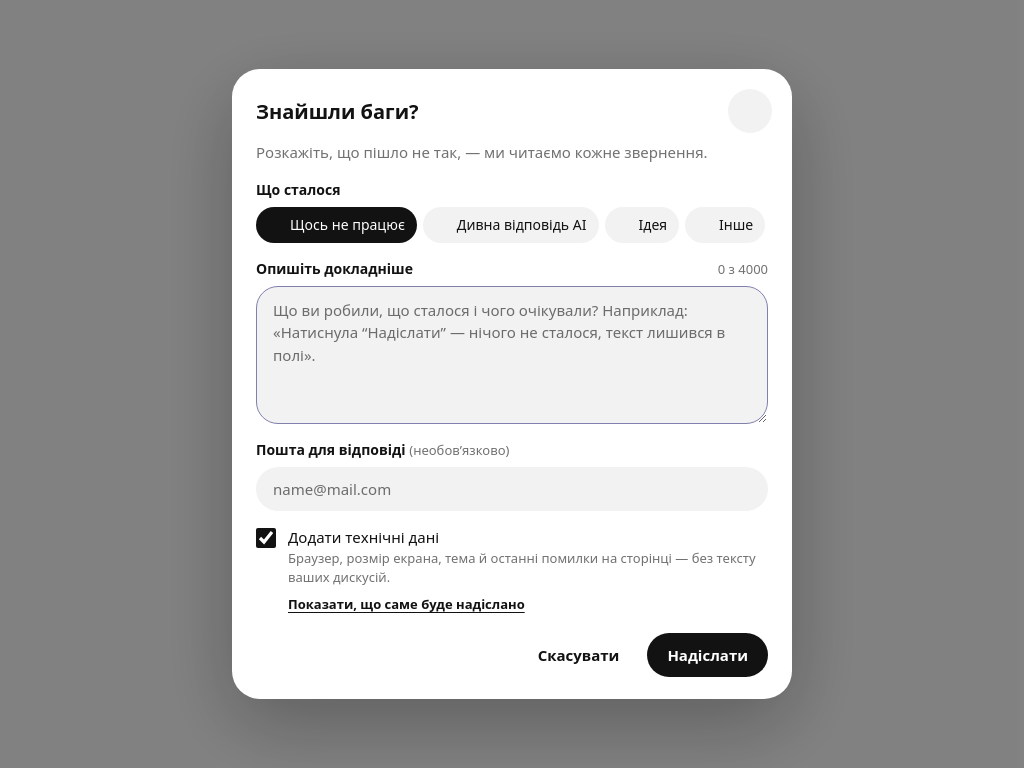
Scenario: «Знайшли баги?» › не надсилає надто короткий опис і пояснює чому
The width and height of the screenshot is (1024, 768).
Type "баг" into the text box labelled "Опишіть докладніше" at (512, 355), box [256,286,768,424]
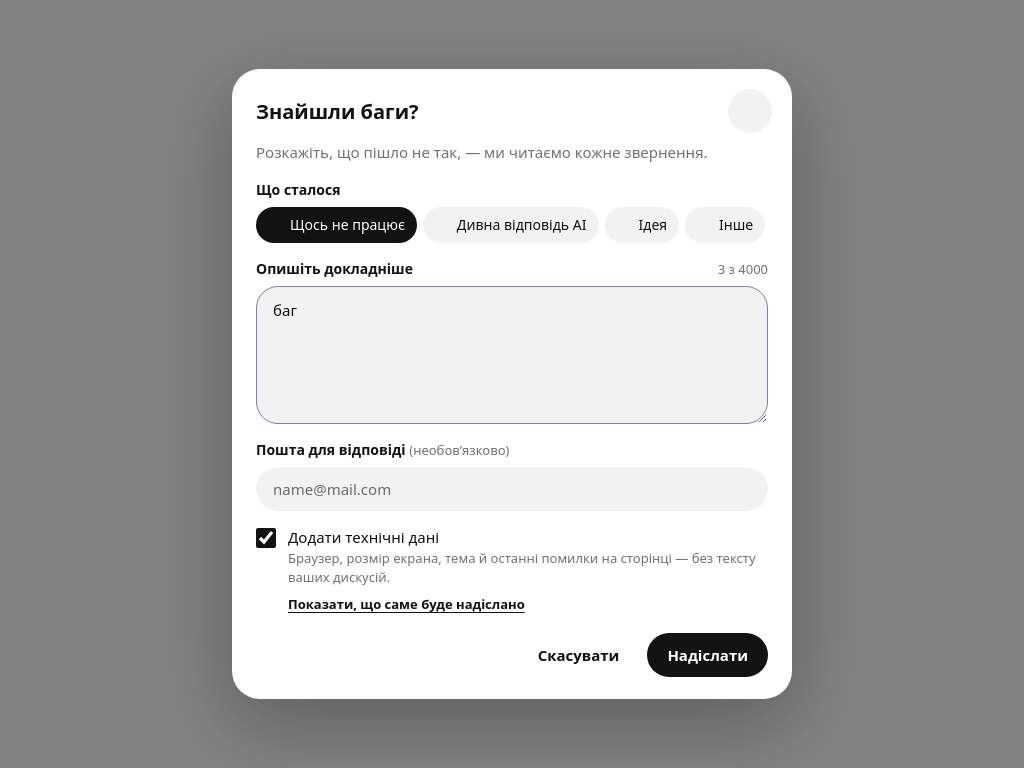
Click the button "Надіслати" at (708, 655), box [647,633,768,677]
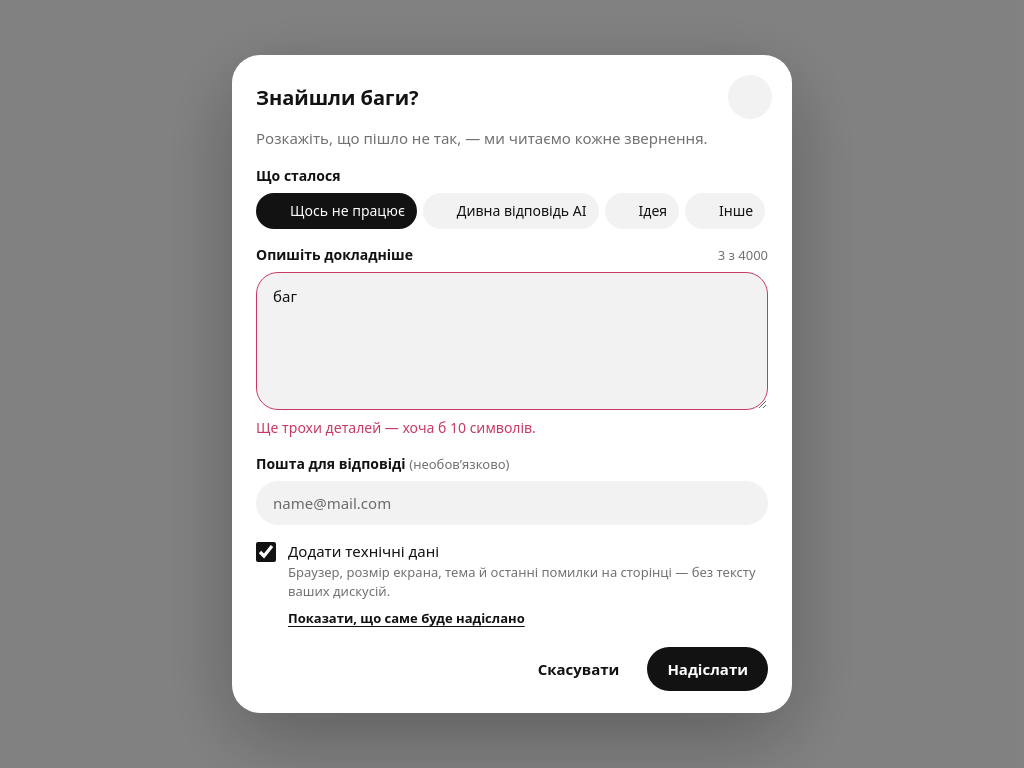
Expected: the text "Ще трохи деталей — хоча б 10 символів." is shown, [256,418,536,437]
